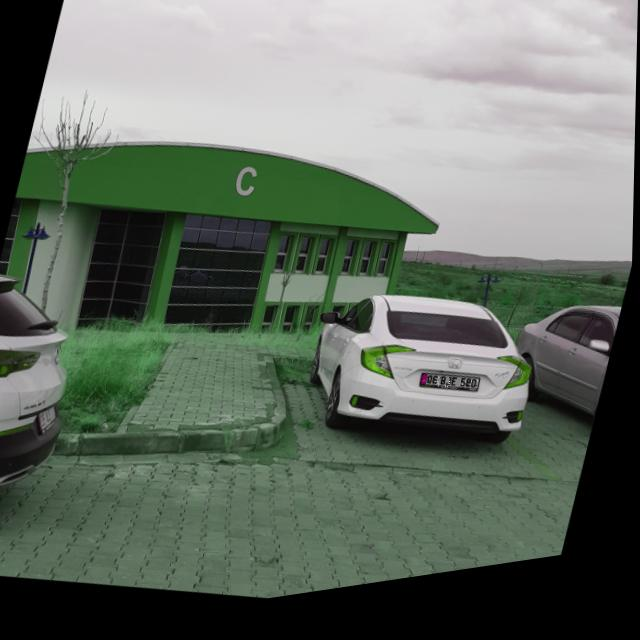license_plate: (420, 379, 482, 411)
